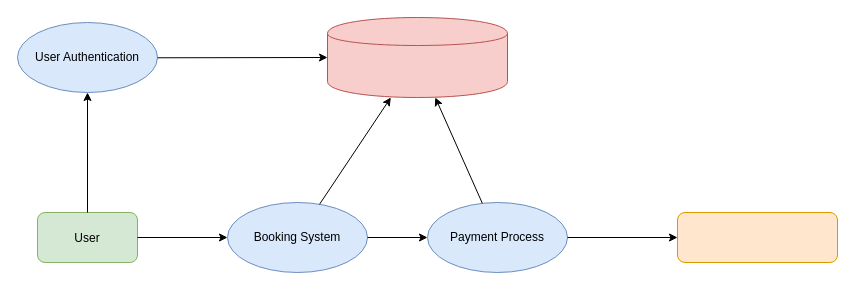
This 855x290 diagram has some shape labels left out. Here are the shapes that lost their labels. From the top down, the box of each, then its label:
(326, 16, 508, 98): Database (Users, Properties, Bookings, Payments)
(676, 212, 838, 262): Payment Gateway (Stripe)
